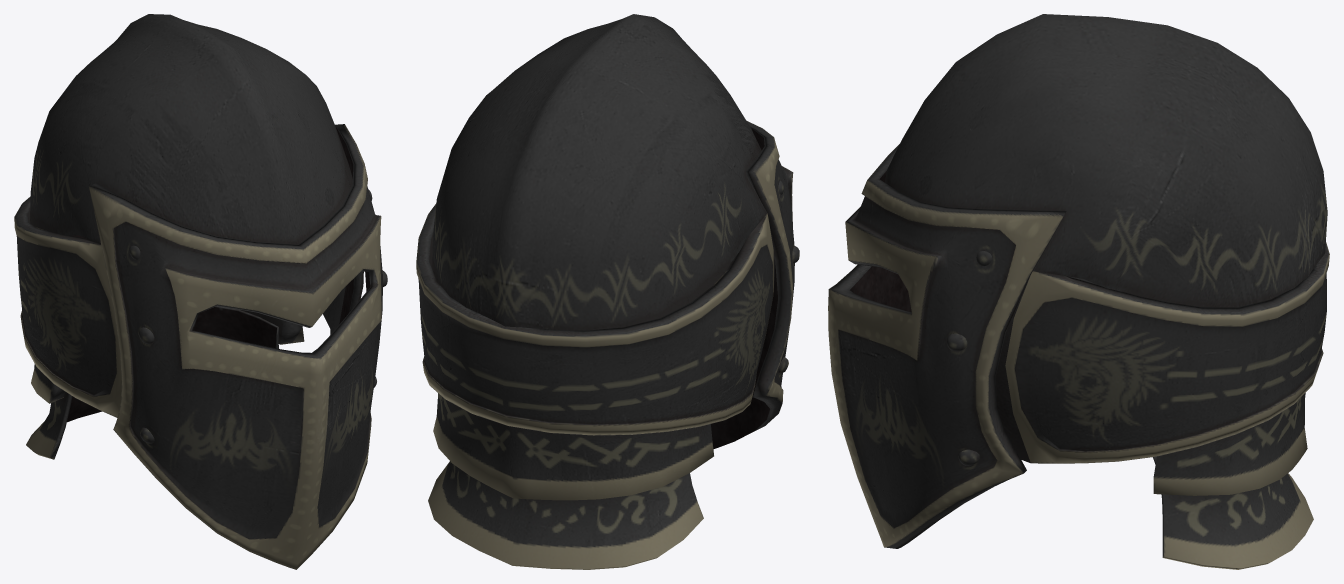
File: sketch_black_helmet.glb
3 views of the same model, side by side, from view 1: azimuth 30°, elevation 25°; view 2: azimuth 150°, elevation 25°; view 3: azimuth 270°, elevation 25° (orthographic). The views are drawn at different scales.
Parts seen in each view (by area): view 1: black_helmet_sketch; view 2: black_helmet_sketch; view 3: black_helmet_sketch.
Part boxes in pixels (x1,y1,x2,y2): black_helmet_sketch: (14, 14, 387, 569); black_helmet_sketch: (416, 14, 799, 569); black_helmet_sketch: (828, 14, 1329, 569).
Bounding box in the file's own units: 0.2052 × 0.3162 × 0.2688.
Materials: 1 (1 with a texture image).
